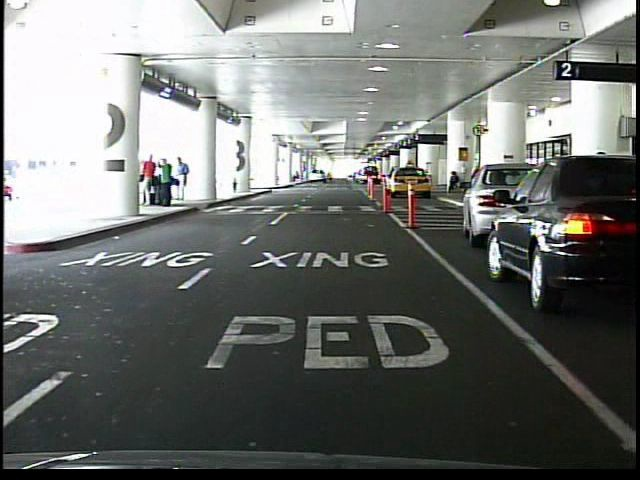person: (144, 152, 157, 207), (159, 157, 173, 208), (176, 157, 190, 203), (446, 171, 461, 195)
